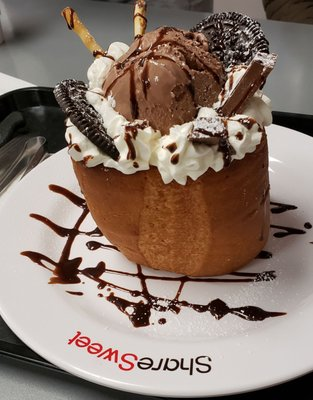sushi: (50, 6, 276, 278)
